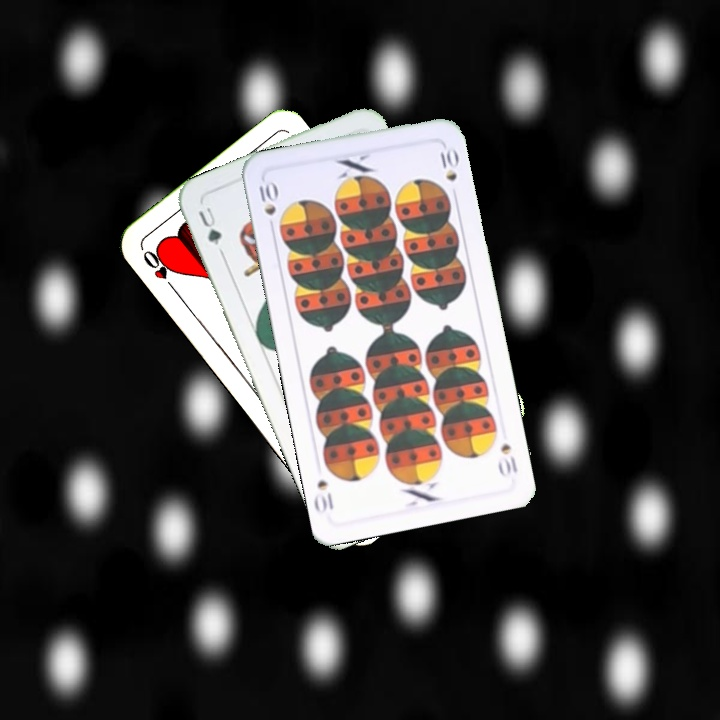GU: (194, 202, 225, 248)
HO: (138, 246, 180, 295)
S10: (254, 176, 285, 235), (494, 439, 520, 480)
